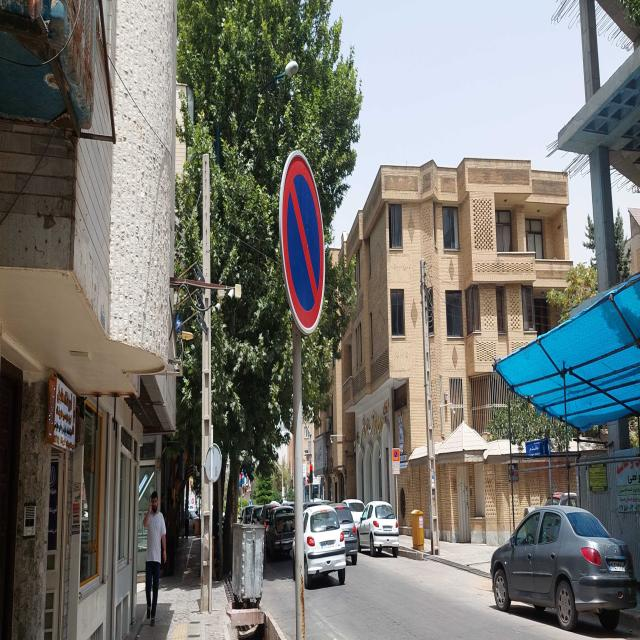forb_stopping: (280, 146, 327, 333)
